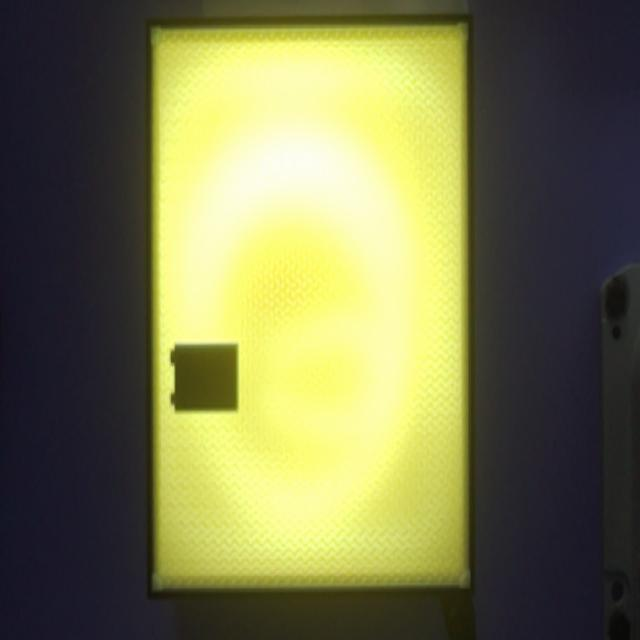bateria: (171, 341, 239, 412)
mesa: (146, 16, 476, 600)
